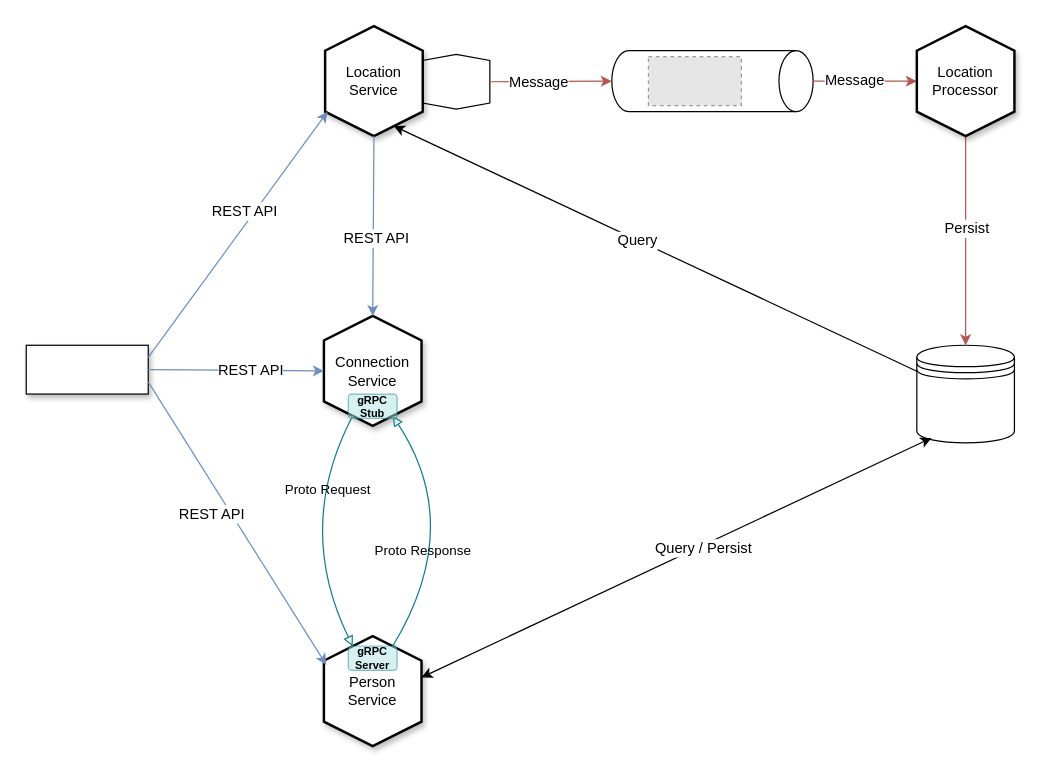
The diagram is 1044 pixels wide and 776 high, and some of its shapes have lost their labels. Grey dashed boxes stand in for pictures. The centre of each missing label's shape, as x and y in pixels:
FrontEnd: point (88, 371)
Location Producer: point (456, 81)
Postgres Database: point (965, 393)
